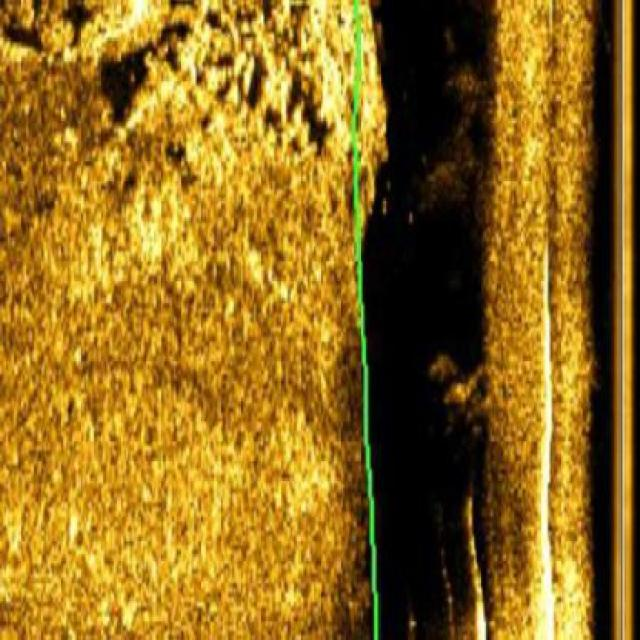bedrock group: (0, 0, 368, 174)
